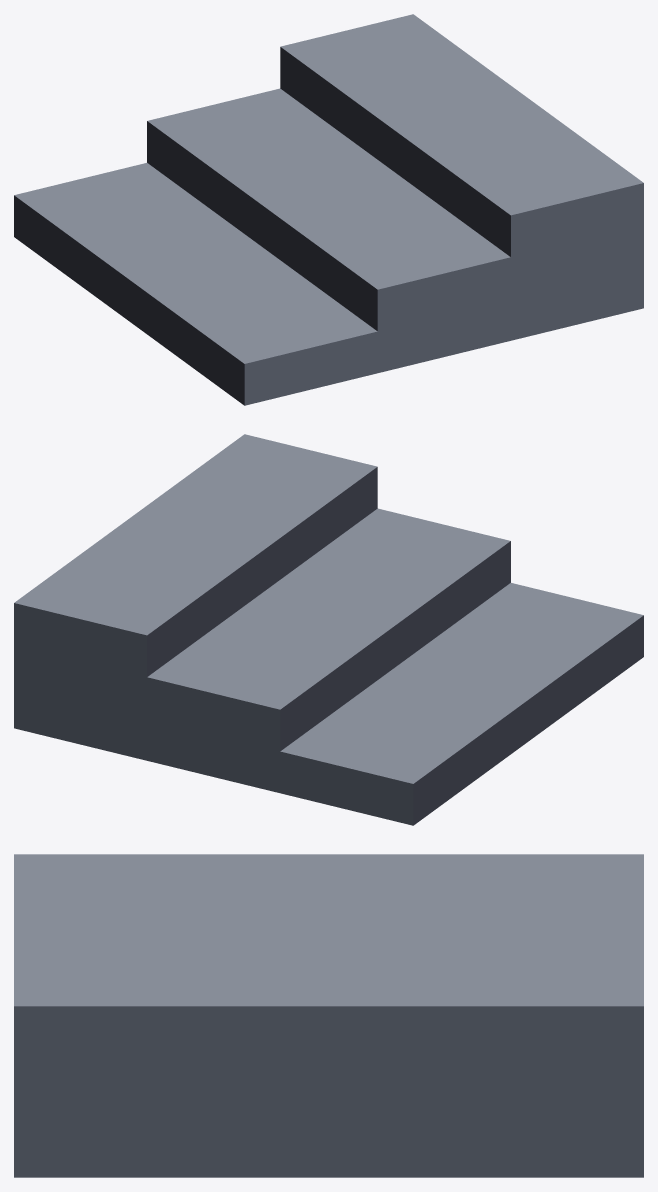
The model's file is TW_STEPS_LOW3_A_LOD0.glb.
3 renders of one model, top to bottom at view 1: azimuth 30°, elevation 25°; view 2: azimuth 150°, elevation 25°; view 3: azimuth 270°, elevation 25°, orthographic. The views are drawn at different scales.
Parts seen in each view (by area): view 1: TW_STEPS_LOW3_A_LOD0; view 2: TW_STEPS_LOW3_A_LOD0; view 3: TW_STEPS_LOW3_A_LOD0.
Part boxes in pixels (x1,y1,x2,y2): TW_STEPS_LOW3_A_LOD0: (14,14,643,405); TW_STEPS_LOW3_A_LOD0: (14,434,643,825); TW_STEPS_LOW3_A_LOD0: (14,854,643,1177).
Bounding box in the file's own units: 1.2 × 0.36 × 1.2.
1 material, 1 textured.
